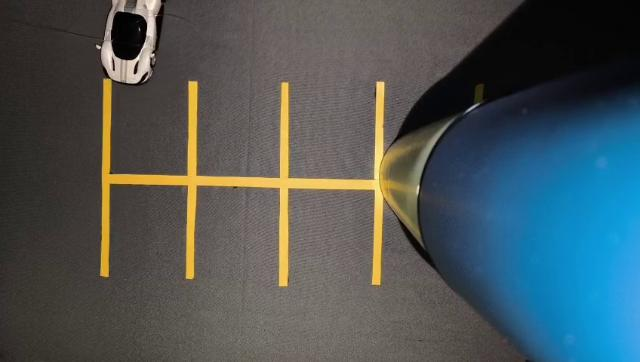toy_car: (56, 0, 181, 97)
